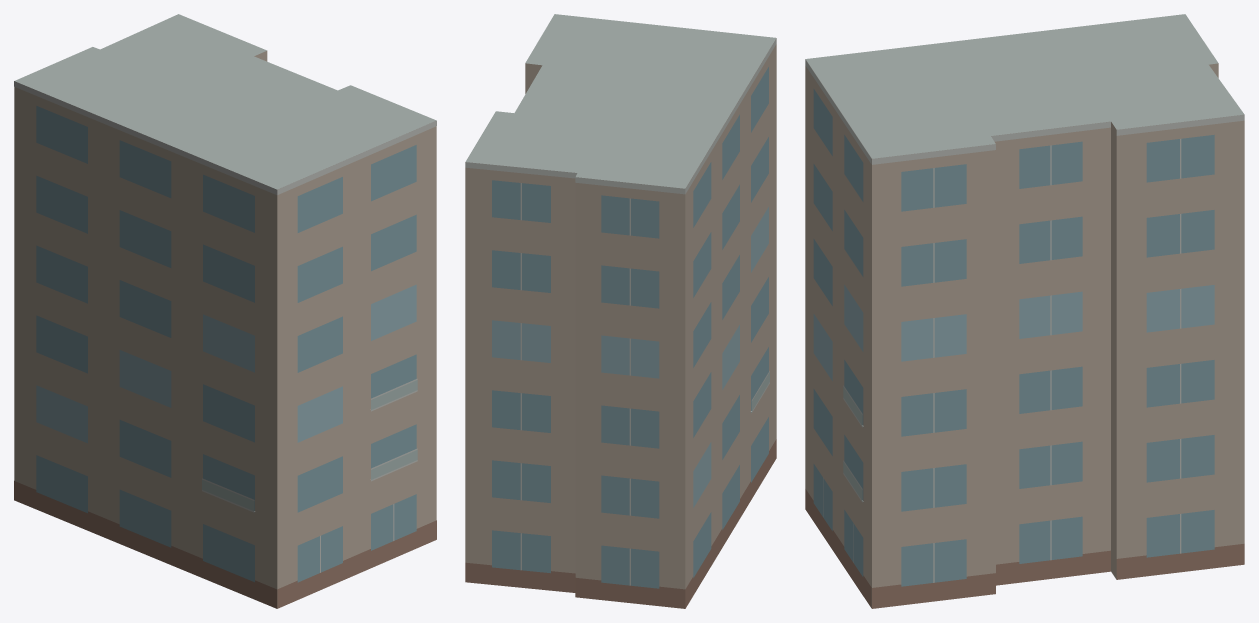
Rendered from survey-upis-32587394.glb.
The picture shows the model from 3 angles, left to right: view 1: azimuth 30°, elevation 25°; view 2: azimuth 150°, elevation 25°; view 3: azimuth 270°, elevation 25°; orthographic projection. The views are drawn at different scales.
Visible parts, largest first — view 1: survey-upis-32587394.tmp; view 2: survey-upis-32587394.tmp; view 3: survey-upis-32587394.tmp.
Boxes of the visible parts, x1,y1,x2,y2 form: survey-upis-32587394.tmp: (14,14,436,608); survey-upis-32587394.tmp: (465,14,776,608); survey-upis-32587394.tmp: (805,14,1244,608).
Bounding box in the file's own units: 12.5 × 18.1 × 16.02.
